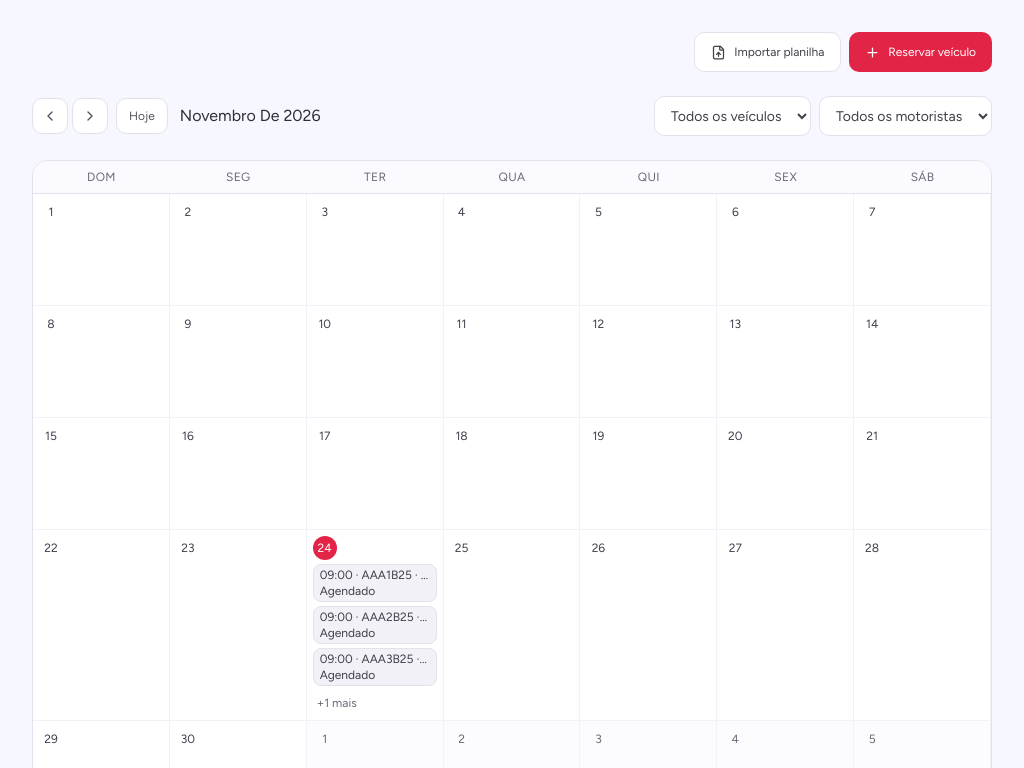
Test case: Agenda: +N mais › se o '+N mais' some enquanto o detalhe está aberto, o foco vai para o dia no calendário
Click the button "+1 mais".
click(337, 703)  # box [313,695,361,711]
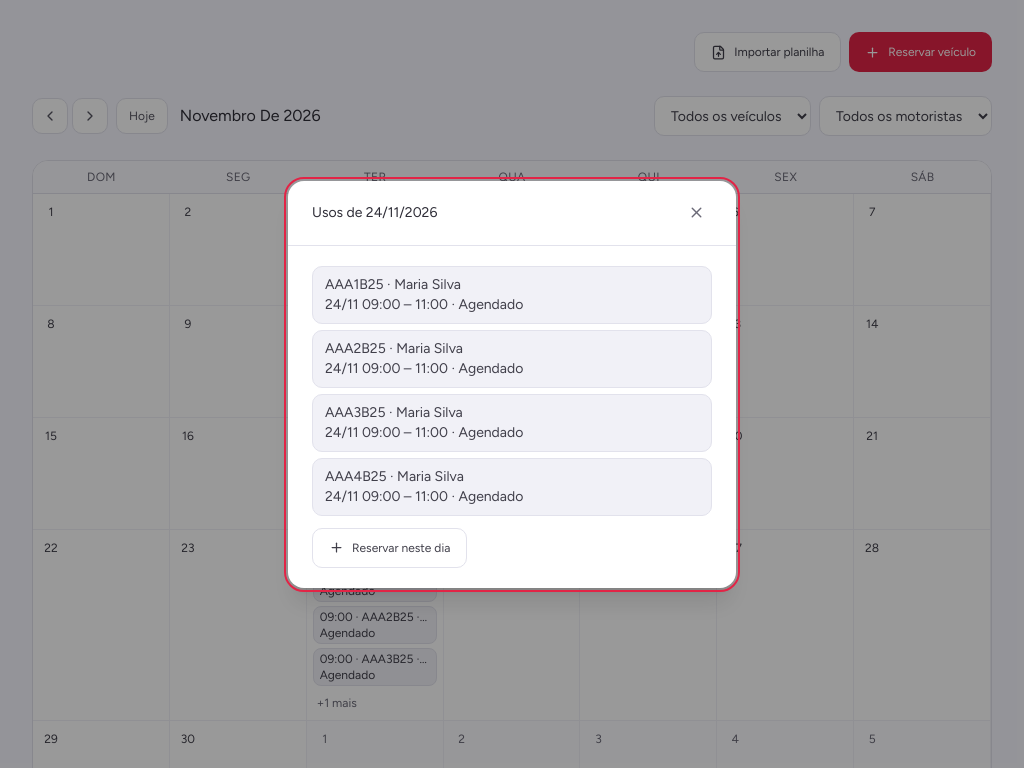
Click the button "AAA4B25 · Maria Silva 24/11 09:00 – 11:00 · Agendado".
click(512, 486)  # box [312,458,712,516]
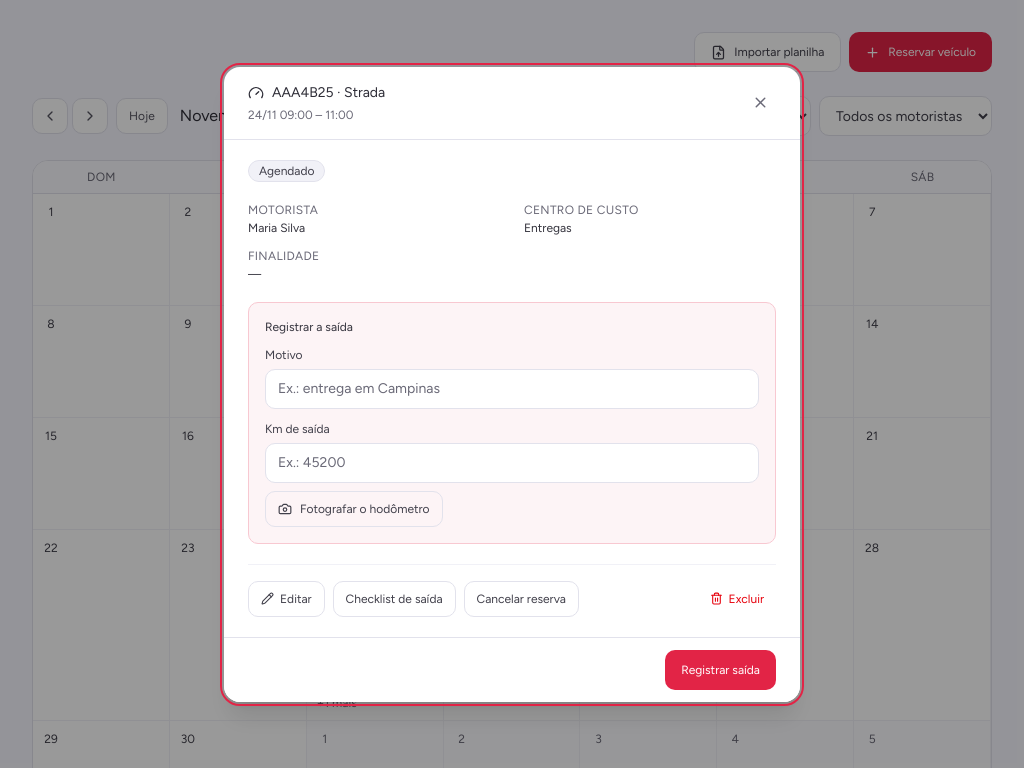
Check: the dialog is shown, box [224,66,800,702]
Excluir tira um uso do dia: sobram 3, e o "+N mais" deixa de existir.
Click the button "Excluir".
click(737, 598)  # box [698,580,776,616]
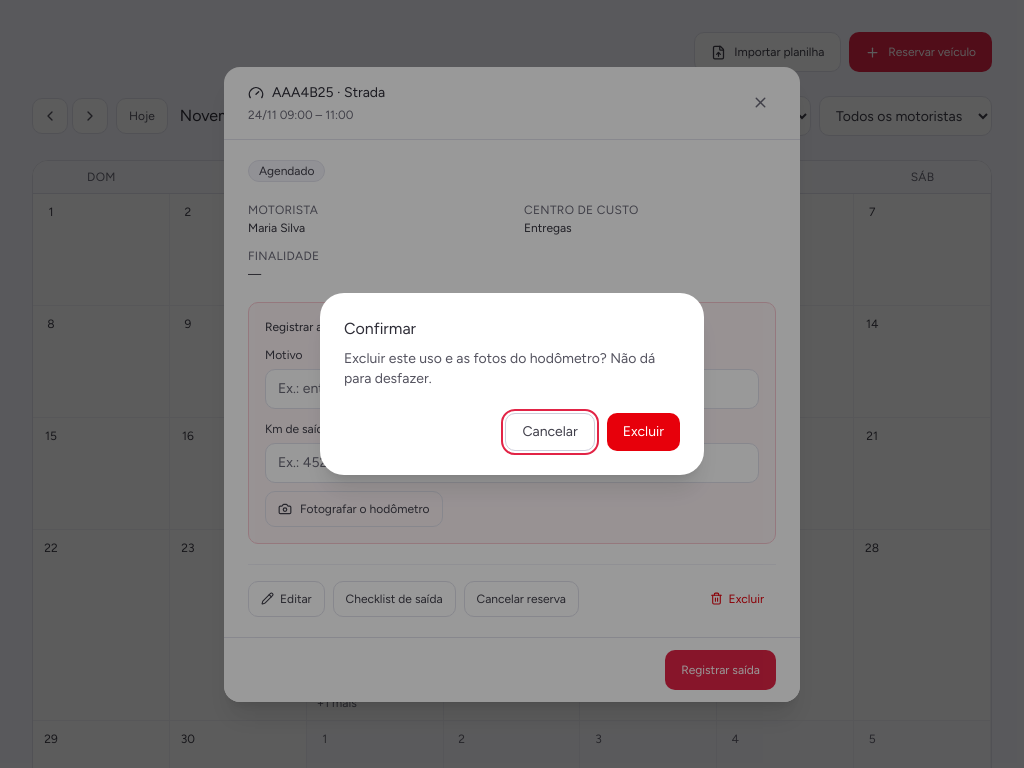
Click the button "Excluir".
click(643, 432)  # box [607,413,680,451]
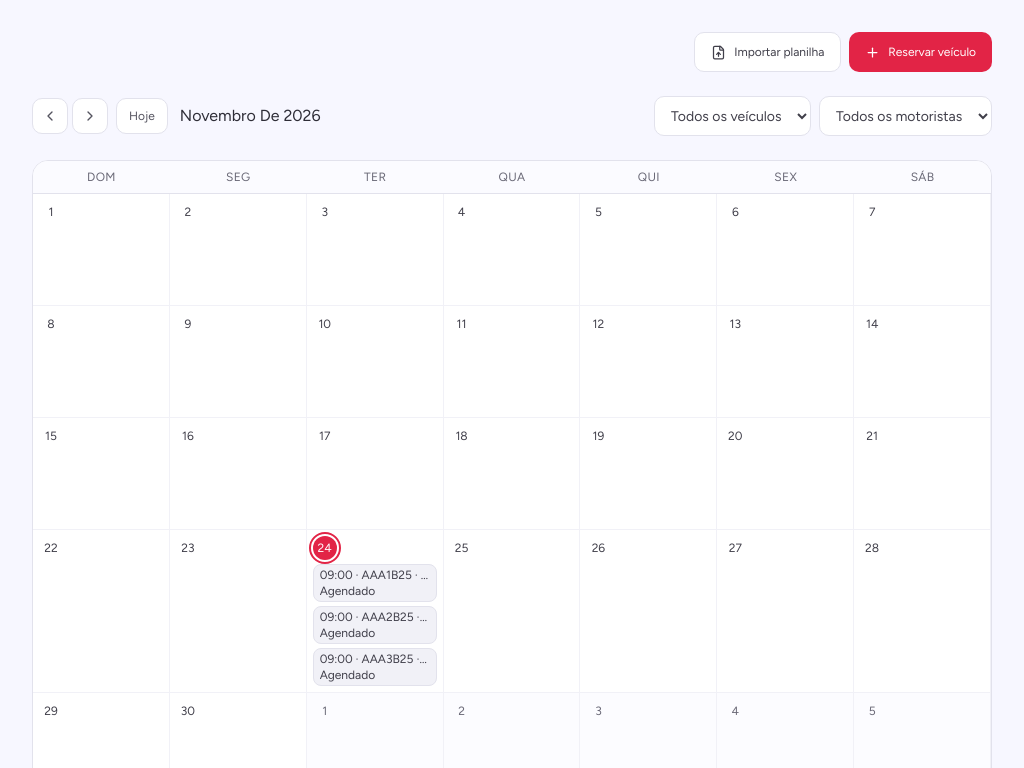
Check: the dialog is gone
Check: the button "+1 mais" is gone
